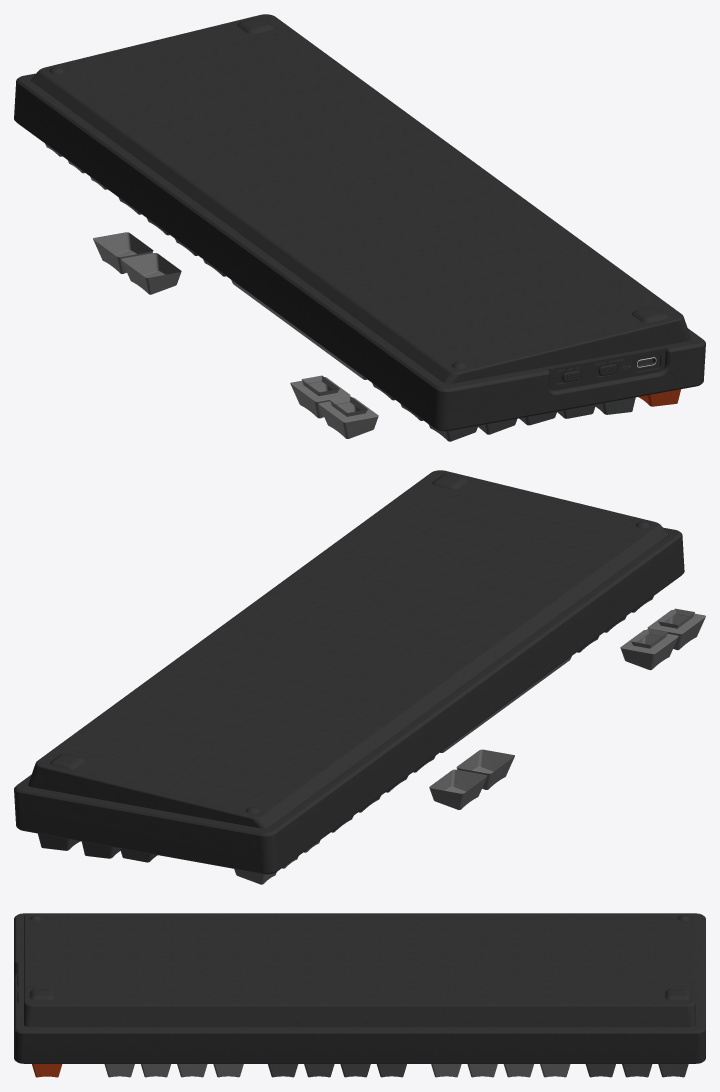
File: KeychronK8_01.fbx
3 renders of one model, top to bottom at view 1: azimuth 30°, elevation 25°; view 2: azimuth 150°, elevation 25°; view 3: azimuth 270°, elevation 25°, orthographic. The views are drawn at different scales.
Visible parts, largest first — view 1: SM_KeychronK8, SM_KeychronK8_misc; view 2: SM_KeychronK8, SM_KeychronK8_misc; view 3: SM_KeychronK8.
Boxes of the visible parts, <box> form: SM_KeychronK8: <box>14,14,705,441</box>; SM_KeychronK8_misc: <box>93,232,378,438</box>; SM_KeychronK8: <box>14,470,684,884</box>; SM_KeychronK8_misc: <box>429,608,705,809</box>; SM_KeychronK8: <box>14,913,705,1077</box>.
Size of the model in its own units: 408 by 180 by 49.33.
